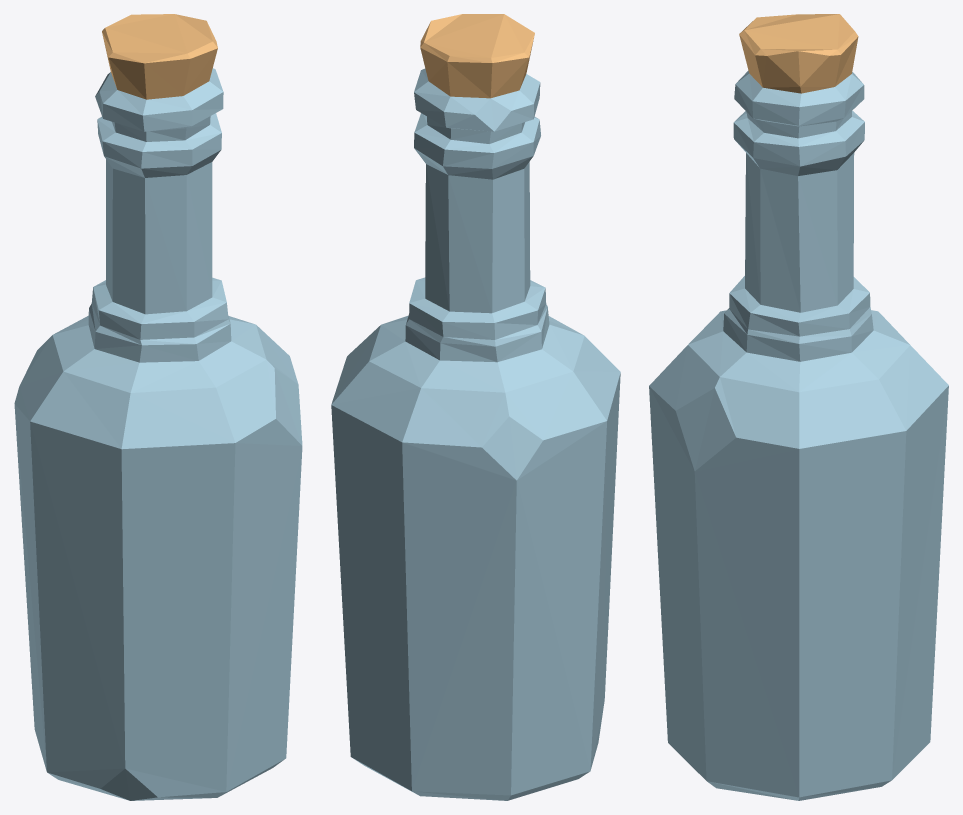
Rendered from SFHW_Bottle_Liquid_007.fbx.
3 renders of one model, left to right at view 1: azimuth 30°, elevation 25°; view 2: azimuth 150°, elevation 25°; view 3: azimuth 270°, elevation 25°, orthographic.
Parts seen in each view (by area): view 1: SFHW_Bottle_Liquid_007; view 2: SFHW_Bottle_Liquid_007; view 3: SFHW_Bottle_Liquid_007.
Boxes of the visible parts, <box> form: SFHW_Bottle_Liquid_007: <box>14,14,302,800</box>; SFHW_Bottle_Liquid_007: <box>331,14,620,800</box>; SFHW_Bottle_Liquid_007: <box>649,14,948,800</box>.
Bounding box in the file's own units: 12.48 × 33.16 × 12.44.
